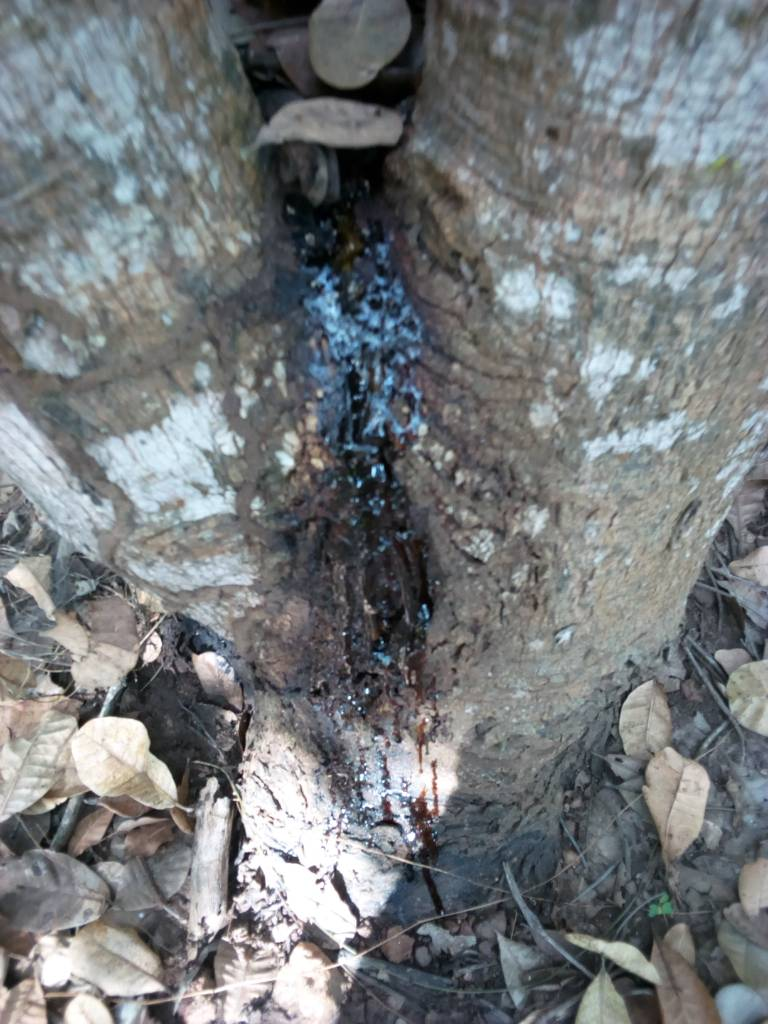Gommose: (304, 242, 455, 757)
